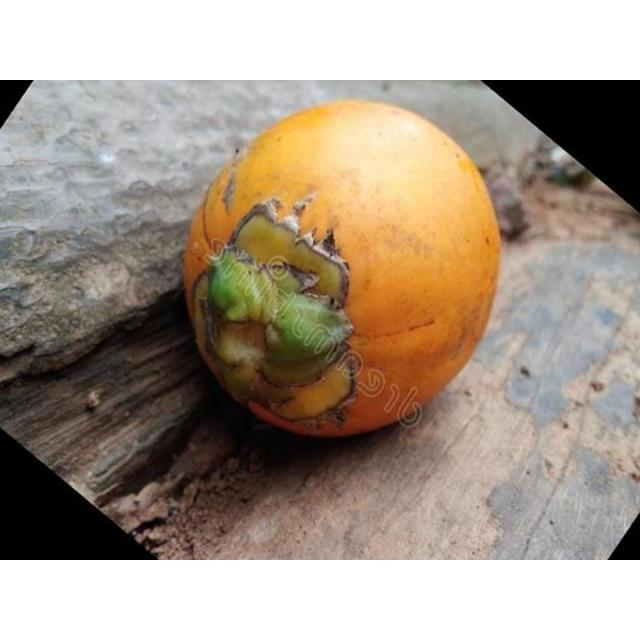good: (180, 100, 503, 441)
